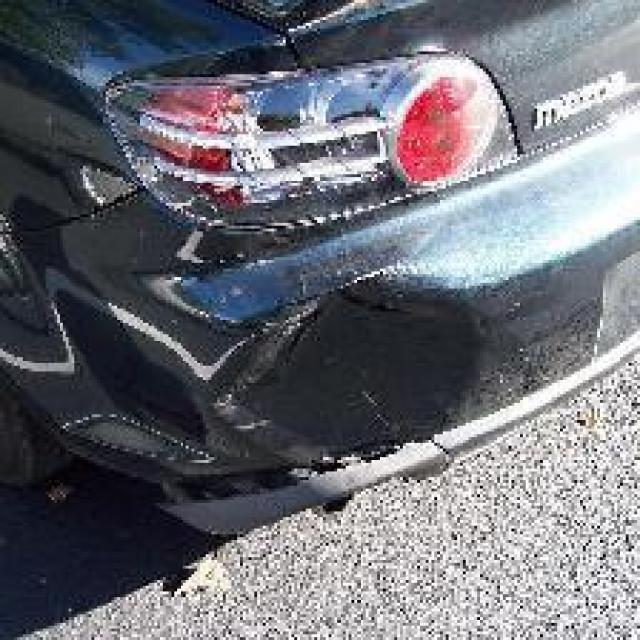damaged: (205, 272, 526, 492)
